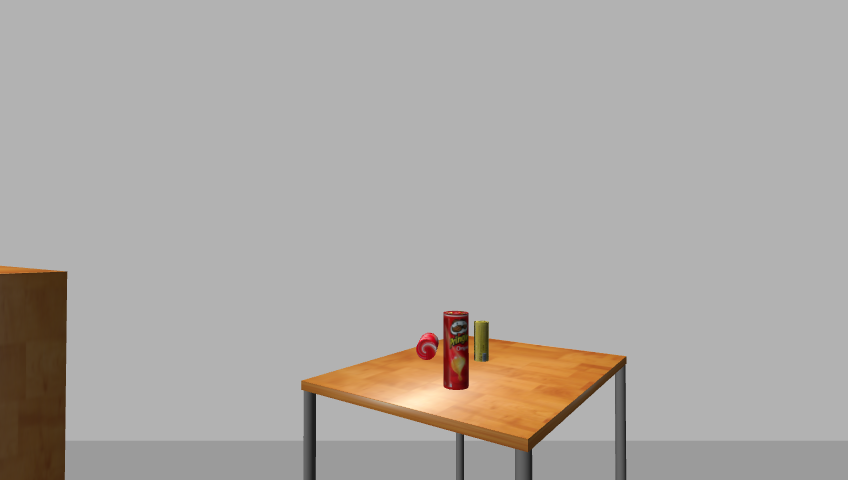biscuits pack: (472, 320, 490, 363)
bookshelf: (0, 263, 75, 480)
coke can: (415, 333, 440, 361)
dinner table: (294, 336, 635, 480)
pringles can: (440, 310, 472, 392)
